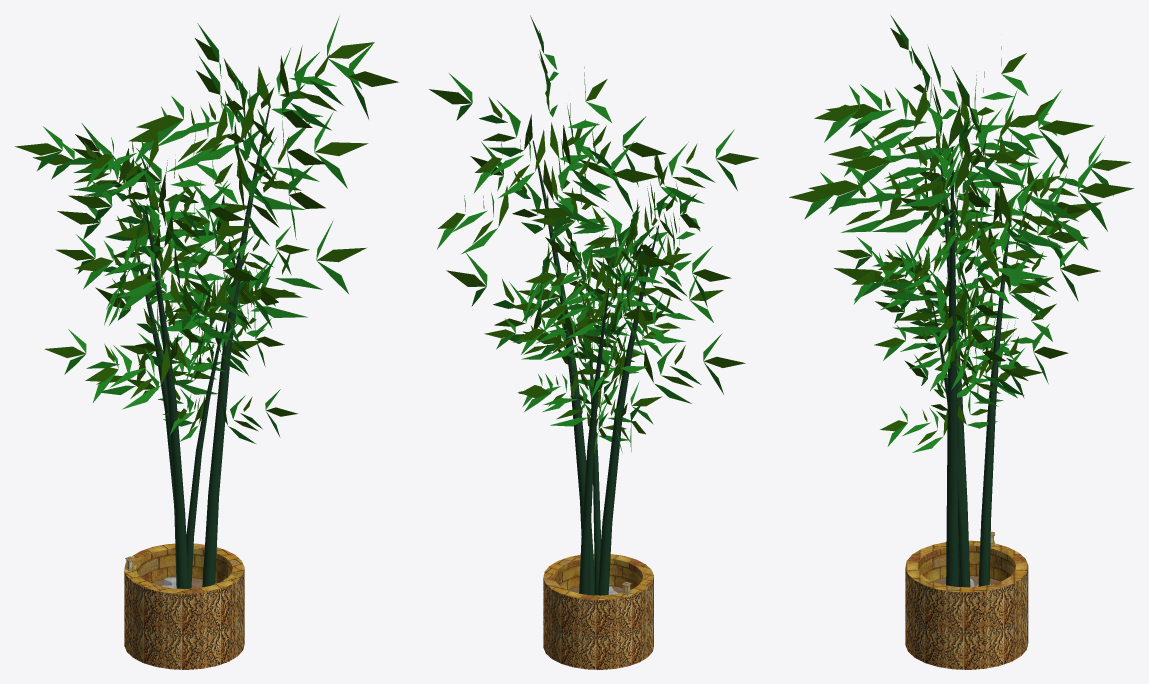
The model's file is plant_bamboo_with_pot_snowism.glb.
3 views of the same model, side by side, from view 1: azimuth 30°, elevation 25°; view 2: azimuth 150°, elevation 25°; view 3: azimuth 270°, elevation 25° (orthographic). The views are drawn at different scales.
Parts seen in each view (by area): view 1: Material2 (×4); view 2: Material2 (×4); view 3: Material2 (×4).
Part boxes in pixels (box(x1,y1,x2,y2)): Material2 (×4): box(15, 16, 398, 669); Material2 (×4): box(429, 15, 758, 669); Material2 (×4): box(789, 15, 1134, 669).
Bounding box in the file's own units: 109 × 194 × 97.43.
Materials: 6 (6 with a texture image).
